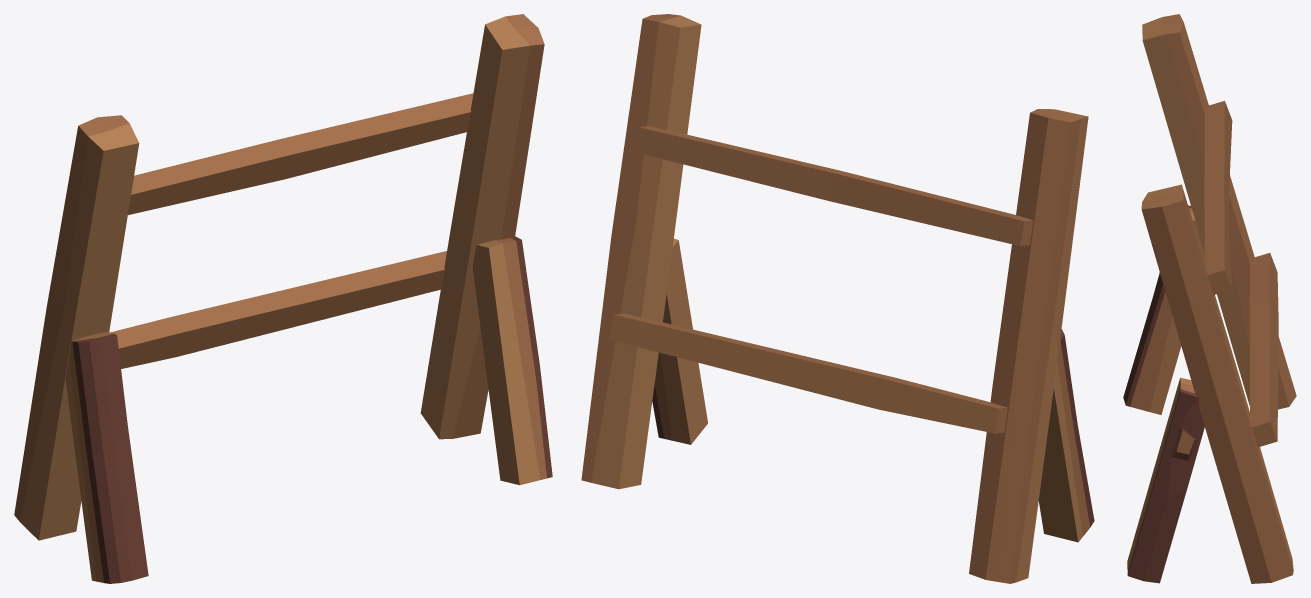
The model's file is drying_stand_high.fbx.
3 views of the same model, side by side, from view 1: azimuth 30°, elevation 25°; view 2: azimuth 150°, elevation 25°; view 3: azimuth 270°, elevation 25° (orthographic). The views are drawn at different scales.
Parts seen in each view (by area): view 1: drying.001; view 2: drying.001; view 3: drying.001.
Part boxes in pixels (box(x1,y1,x2,y2)): drying.001: box(14, 14, 552, 583); drying.001: box(581, 14, 1094, 583); drying.001: box(1123, 14, 1296, 583).
Size of the model in its own units: 76.64 by 72.8 by 29.57.
